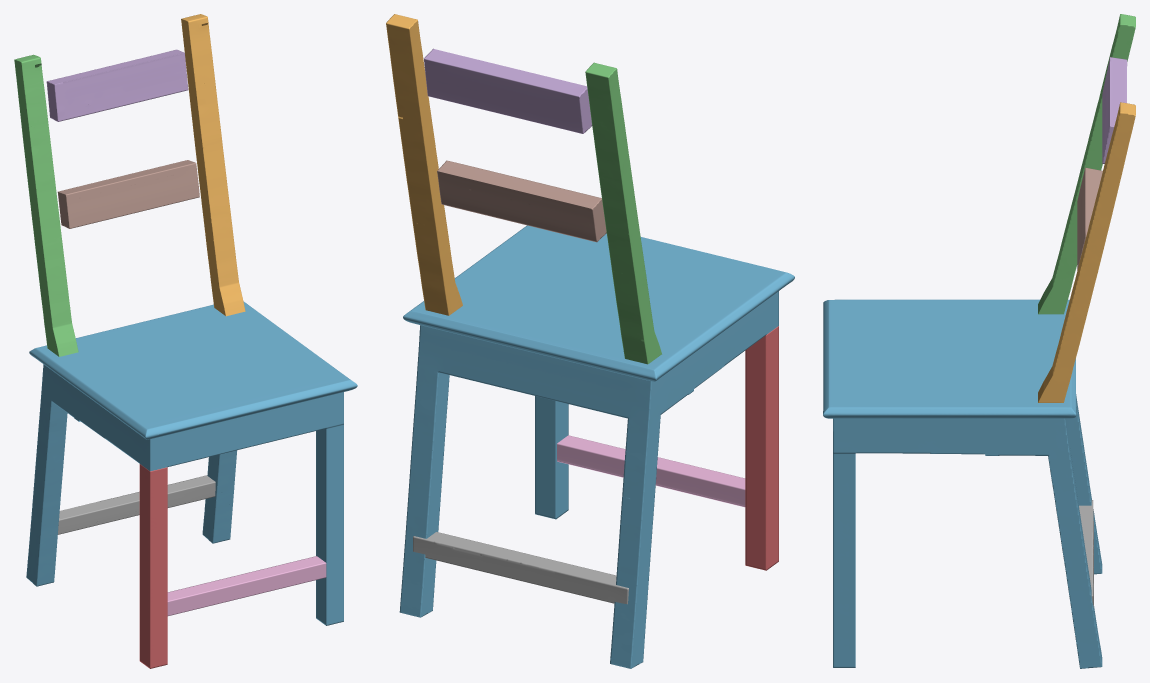
Rendered from ladder-chair.glb.
3 renders of one model, left to right at view 1: azimuth 30°, elevation 25°; view 2: azimuth 150°, elevation 25°; view 3: azimuth 270°, elevation 25°, orthographic. The views are drawn at different scales.
Parts seen in each view (by area): view 1: Part 01, Part 02, Part 03, Part 05, Part 04, Part 06, Part 07, Part 08; view 2: Part 01, Part 03, Part 02, Part 05, Part 04, Part 06, Part 08, Part 07; view 3: Part 01, Part 02, Part 03, Part 05, Part 06, Part 08.
Part boxes in pixels (x1,y1,x2,y2): Part 01: (26, 301, 357, 625); Part 02: (181, 14, 245, 316); Part 03: (14, 54, 78, 356); Part 05: (46, 49, 188, 121); Part 04: (139, 464, 167, 668); Part 06: (57, 160, 199, 228); Part 07: (167, 556, 326, 615); Part 08: (58, 475, 215, 534); Part 01: (399, 225, 794, 668); Part 03: (585, 62, 661, 364); Part 02: (386, 14, 462, 315); Part 05: (424, 48, 592, 133); Part 04: (745, 326, 778, 570); Part 06: (437, 160, 606, 242); Part 08: (413, 532, 628, 604); Part 07: (557, 435, 745, 507); Part 01: (823, 299, 1102, 668); Part 02: (1038, 102, 1135, 402); Part 03: (1038, 14, 1135, 314); Part 05: (1102, 57, 1127, 163); Part 06: (1077, 167, 1102, 270); Part 08: (1079, 500, 1093, 607).
Size of the model in its own units: 0.4348 by 0.9996 by 0.5115.
